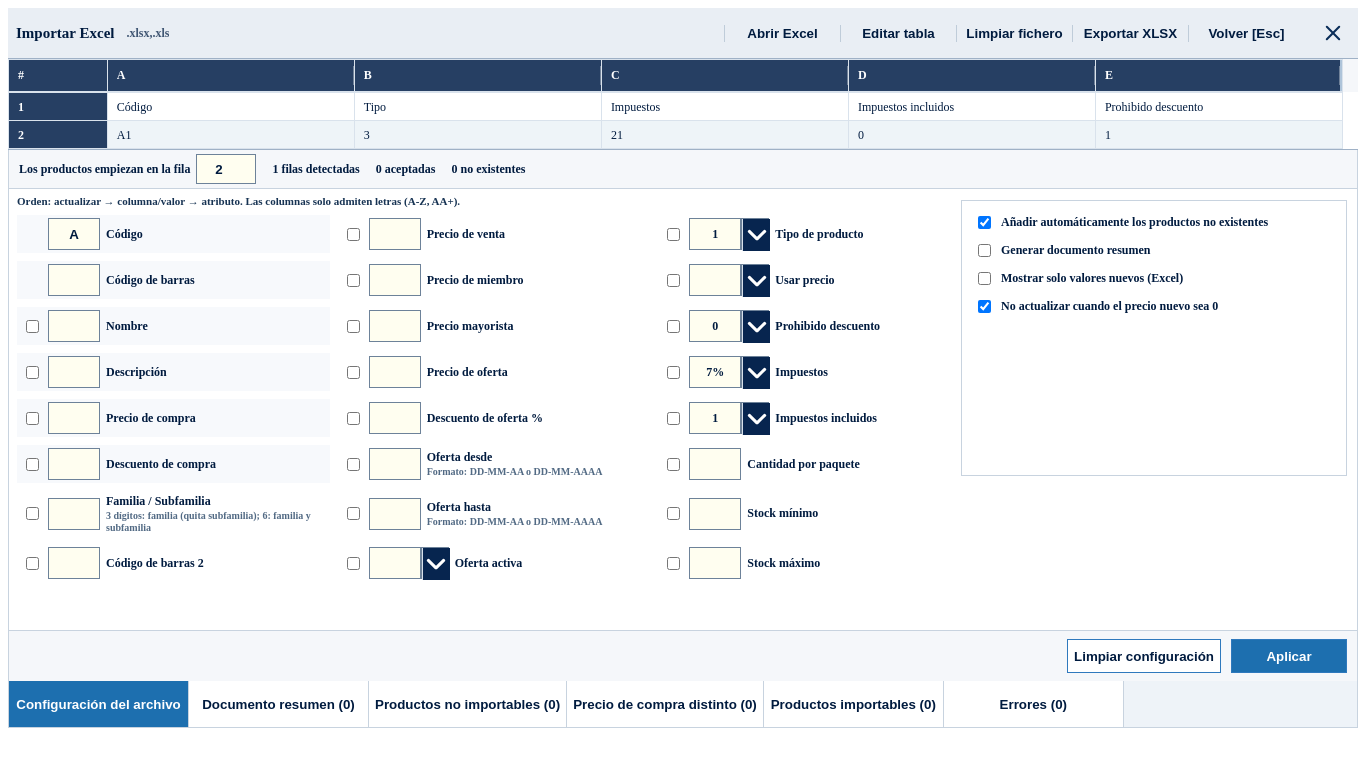
SharedExcelImportDialog › uses the requested fresh defaults and resets them without checking update permissions
Check: the dropdown named "Tipo de producto Columna o valor" holds "1", box [689,218,741,250]
Check: the checkbox named "Actualizar Tipo de producto" is not checked, box [667,228,680,240]
Replace the text in the dropdown named "Impuestos Columna o valor" with "AA" at (715, 372), box [689,356,741,388]
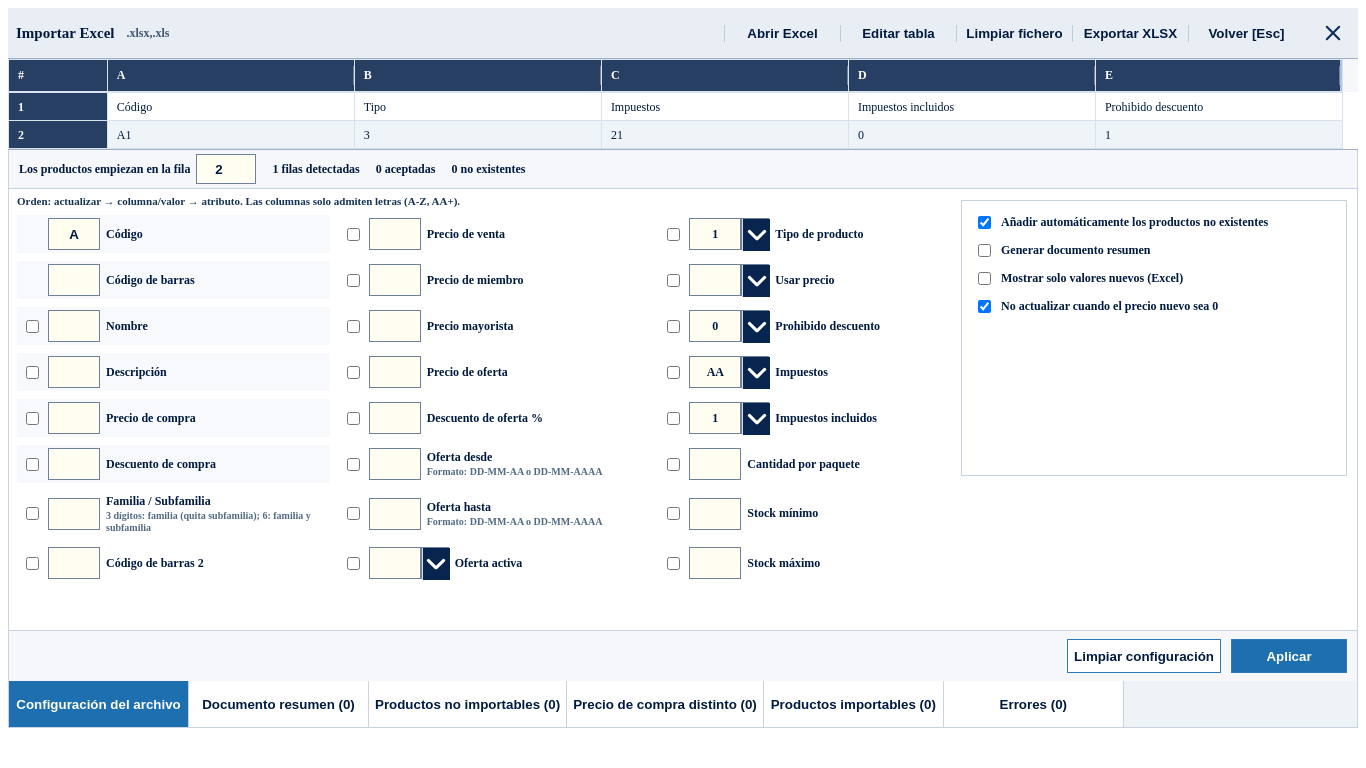
Click the button "Limpiar configuración" at (1144, 656), box [1067,639,1221,673]
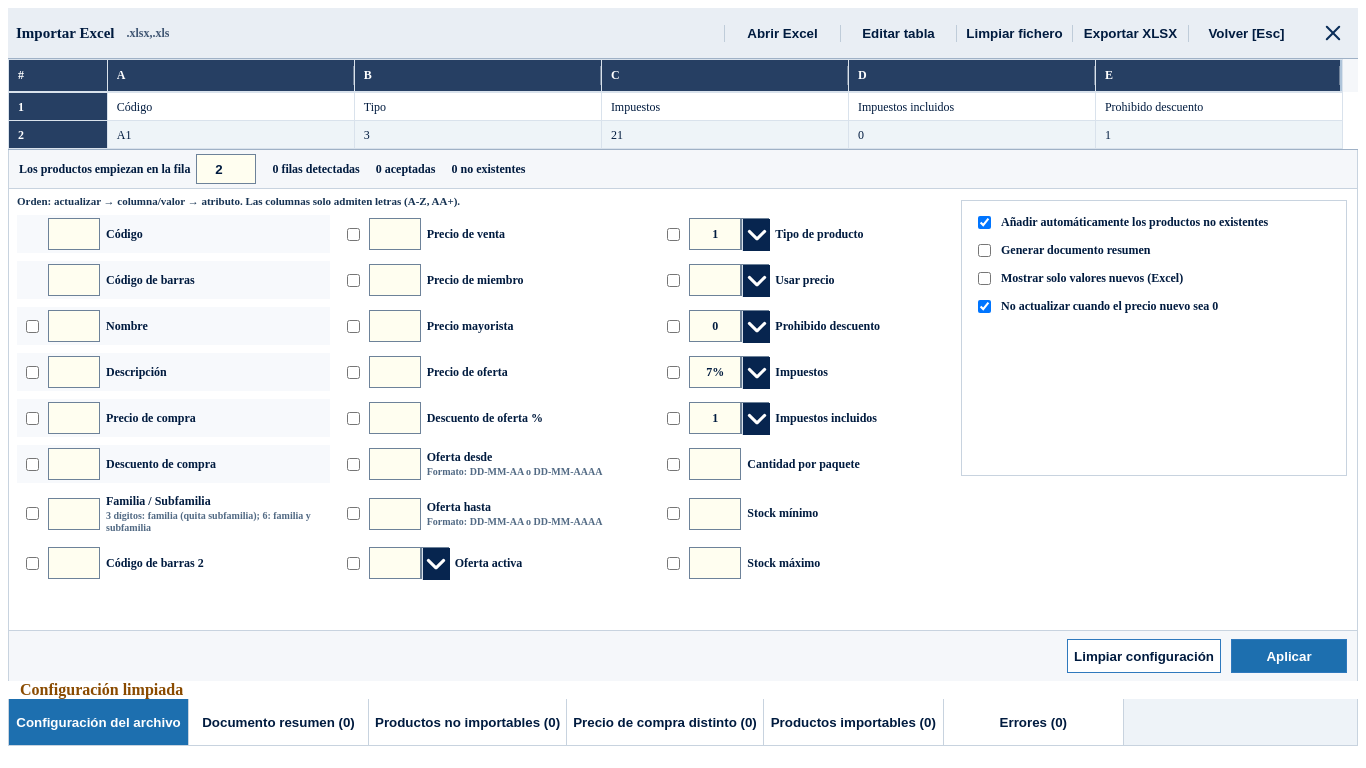
Check: the dropdown named "Tipo de producto Columna o valor" holds "1", box [689,218,741,250]
Check: the dropdown named "Impuestos Columna o valor" holds "7%", box [689,356,741,388]
